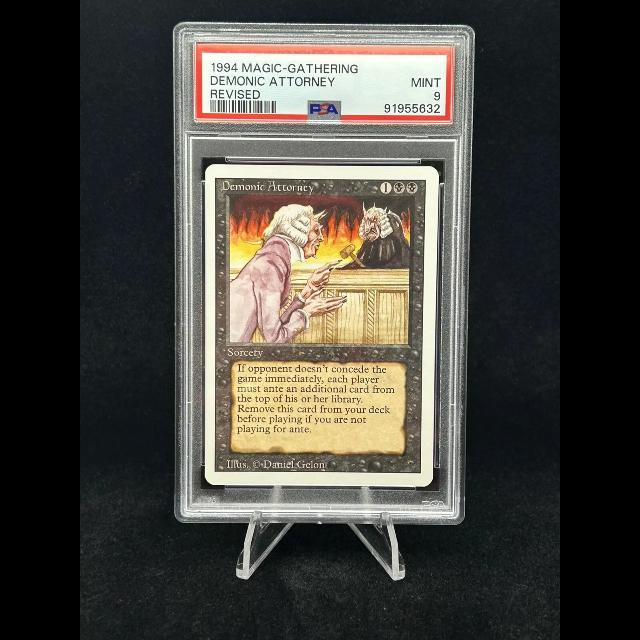card: (204, 163, 440, 487)
psa_label: (194, 43, 453, 124)
psa_slab: (173, 21, 476, 526)
